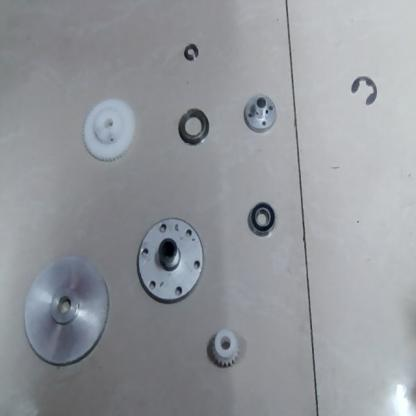FOD: (16, 258, 112, 368), (136, 214, 206, 307), (80, 95, 138, 170), (243, 89, 279, 135), (209, 324, 241, 370), (178, 107, 210, 148), (348, 70, 380, 108), (248, 202, 278, 240), (183, 40, 201, 66)
